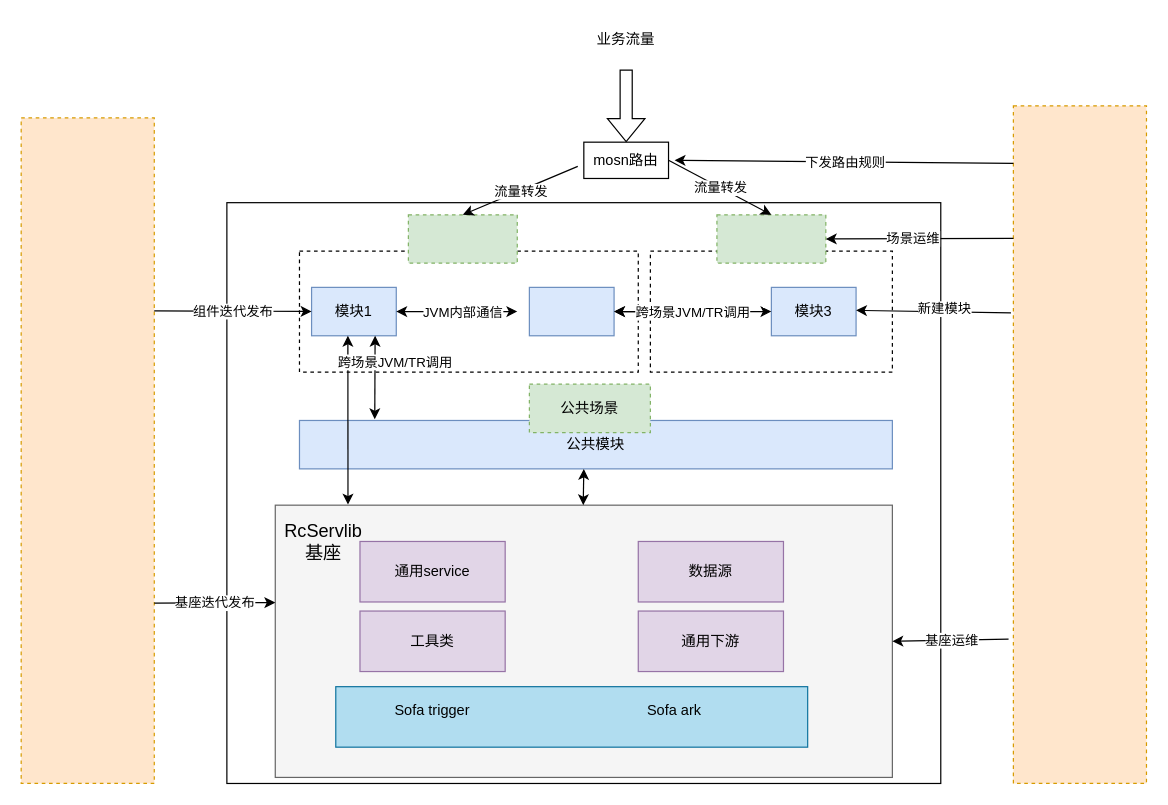
The diagram is 1168 pixels wide and 805 high, and some of its shapes have lost their labels. The centre of each missing label's shape, as x and y in pixels:
"linke" goes at point 87,450.
"定制场景" goes at point 771,238.
"模块2" goes at point 571,311.
"玲珑平台" goes at point 1079,444.
"默认场景" goes at point 462,238.
